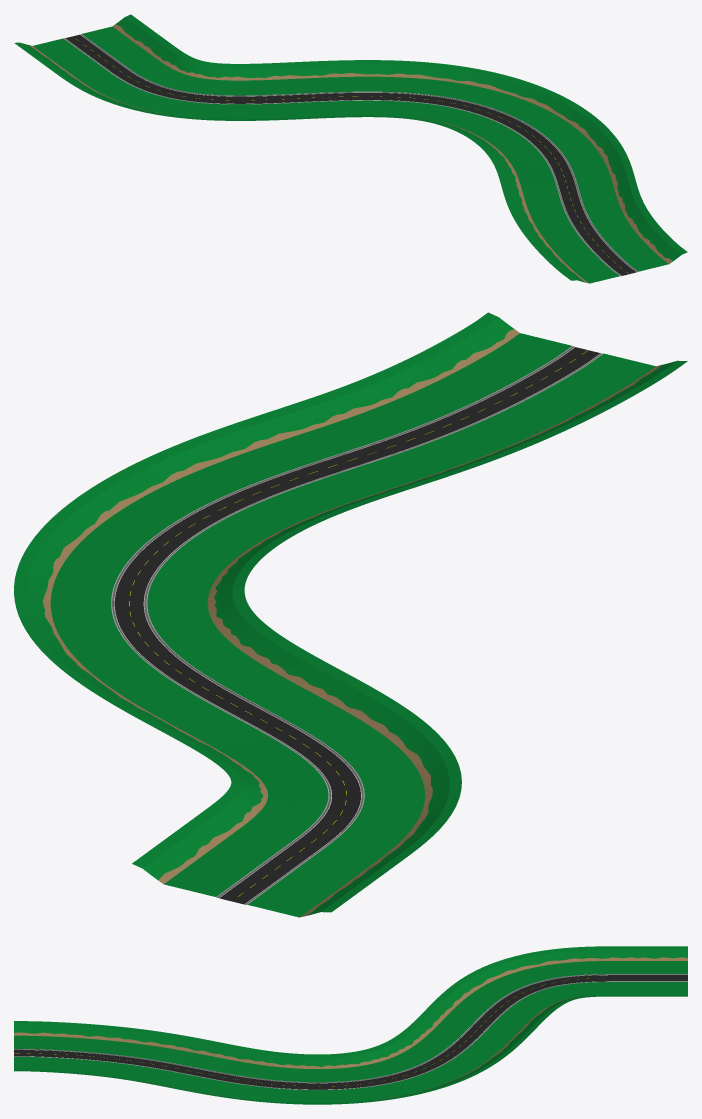
Rendered from HighWay-07.fbx.
3 renders of one model, top to bottom at view 1: azimuth 30°, elevation 25°; view 2: azimuth 150°, elevation 25°; view 3: azimuth 270°, elevation 25°, orthographic. The views are drawn at different scales.
Parts seen in each view (by area): view 1: HW-01; view 2: HW-01; view 3: HW-01.
Boxes of the visible parts, bbox=[...] form: HW-01: bbox=[14, 14, 687, 283]; HW-01: bbox=[14, 312, 687, 917]; HW-01: bbox=[14, 946, 687, 1104].
Size of what is drawn, in the model's own units: 292 by 8.34 by 533.
